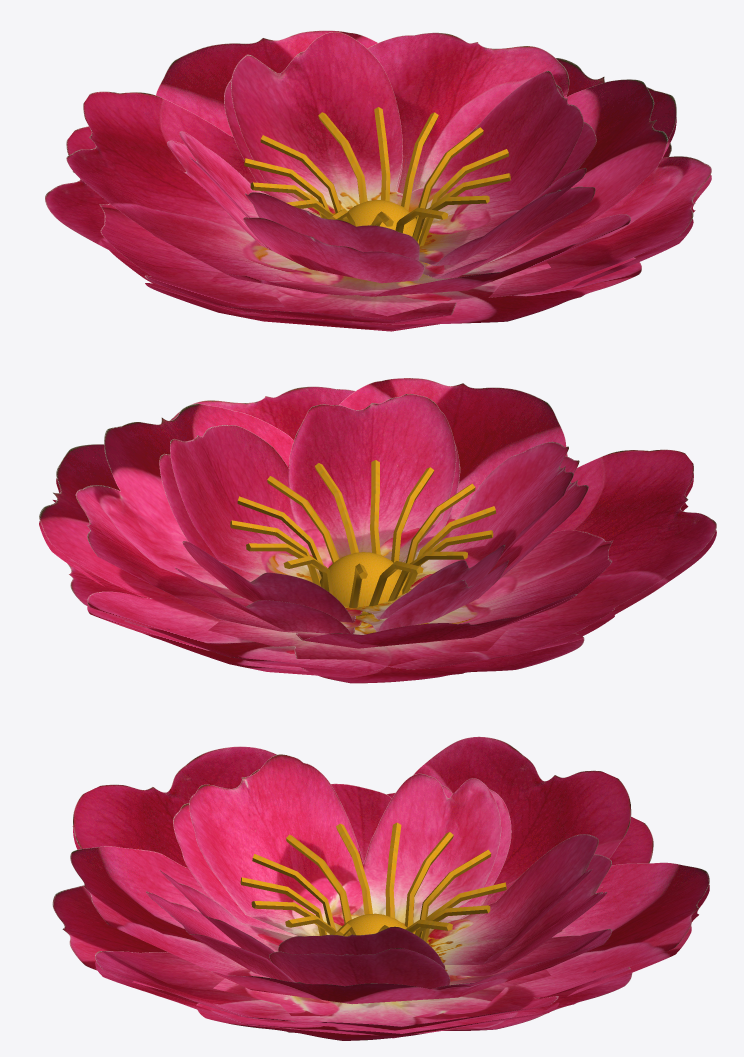
The model's file is P_Fleur_animated.FBX.
3 views of the same model, one above another, from view 1: azimuth 30°, elevation 25°; view 2: azimuth 150°, elevation 25°; view 3: azimuth 270°, elevation 25° (orthographic).
Visible parts, largest first — view 1: P_Petals02, P_Petals01, P_Petals_03, P_Petals02_back, P_Petals01_back, P_Fleur, P_Petals03_back; view 2: P_Petals01, P_Petals02, P_Petals_03, P_Fleur, P_Petals01_back, P_Petals02_back, P_Petals03_back; view 3: P_Petals01, P_Petals02, P_Petals_03, P_Petals01_back, P_Petals02_back, P_Fleur, P_Petals03_back.
Boxes of the visible parts, left/top/right/bottom form: P_Petals02: left=66, top=32, right=667, bottom=296; P_Petals01: left=179, top=32, right=586, bottom=265; P_Petals_03: left=99, top=30, right=711, bottom=324; P_Petals02_back: left=45, top=126, right=671, bottom=324; P_Petals01_back: left=167, top=79, right=596, bottom=283; P_Fleur: left=244, top=107, right=510, bottom=246; P_Petals03_back: left=99, top=117, right=711, bottom=331; P_Petals01: left=170, top=394, right=573, bottom=622; P_Petals02: left=75, top=378, right=613, bottom=648; P_Petals_03: left=39, top=386, right=716, bottom=671; P_Fleur: left=230, top=460, right=496, bottom=616; P_Petals01_back: left=159, top=442, right=588, bottom=634; P_Petals02_back: left=67, top=559, right=587, bottom=683; P_Petals03_back: left=39, top=473, right=716, bottom=677; P_Petals01: left=159, top=754, right=598, bottom=969; P_Petals02: left=70, top=736, right=631, bottom=1004; P_Petals_03: left=73, top=746, right=709, bottom=1030; P_Petals01_back: left=146, top=769, right=611, bottom=989; P_Petals02_back: left=52, top=816, right=653, bottom=1040; P_Fleur: left=240, top=822, right=506, bottom=942; P_Petals03_back: left=72, top=826, right=709, bottom=1038.
Size of the model in its own units: 65.63 by 16.93 by 65.58.
